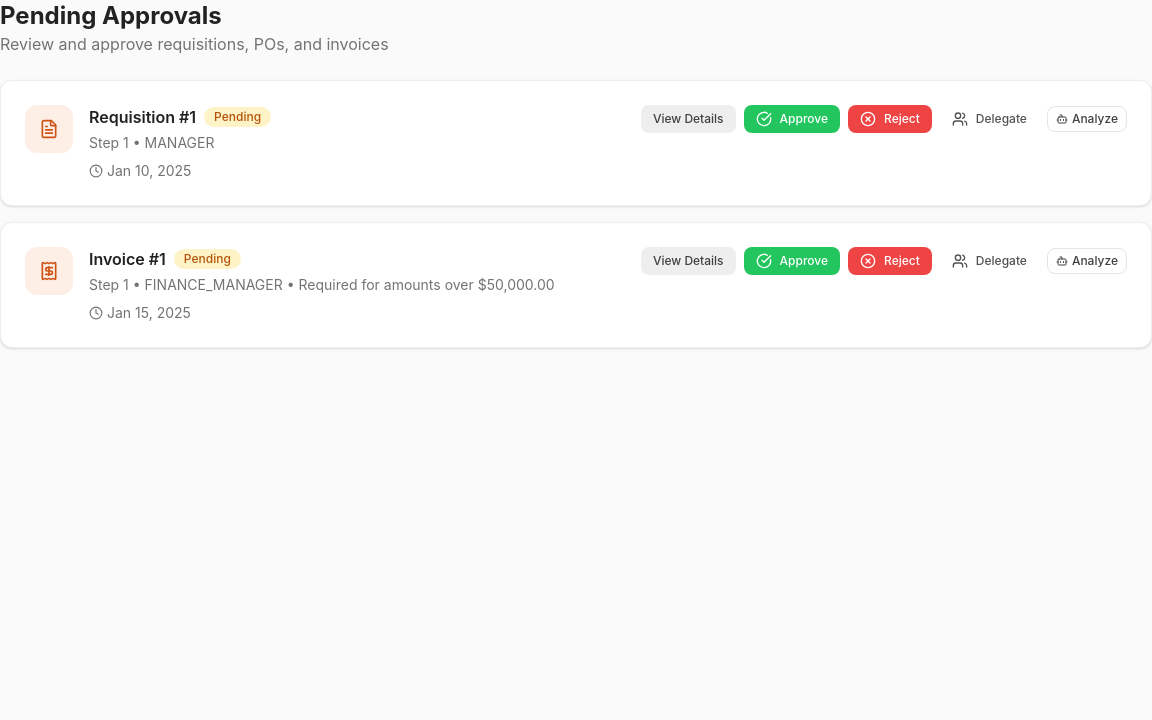
it: ApprovalsView › opens approve modal when approve button is clicked
The width and height of the screenshot is (1152, 720).
Click the 1st button "Approve": click(792, 119) [744,105,840,133]
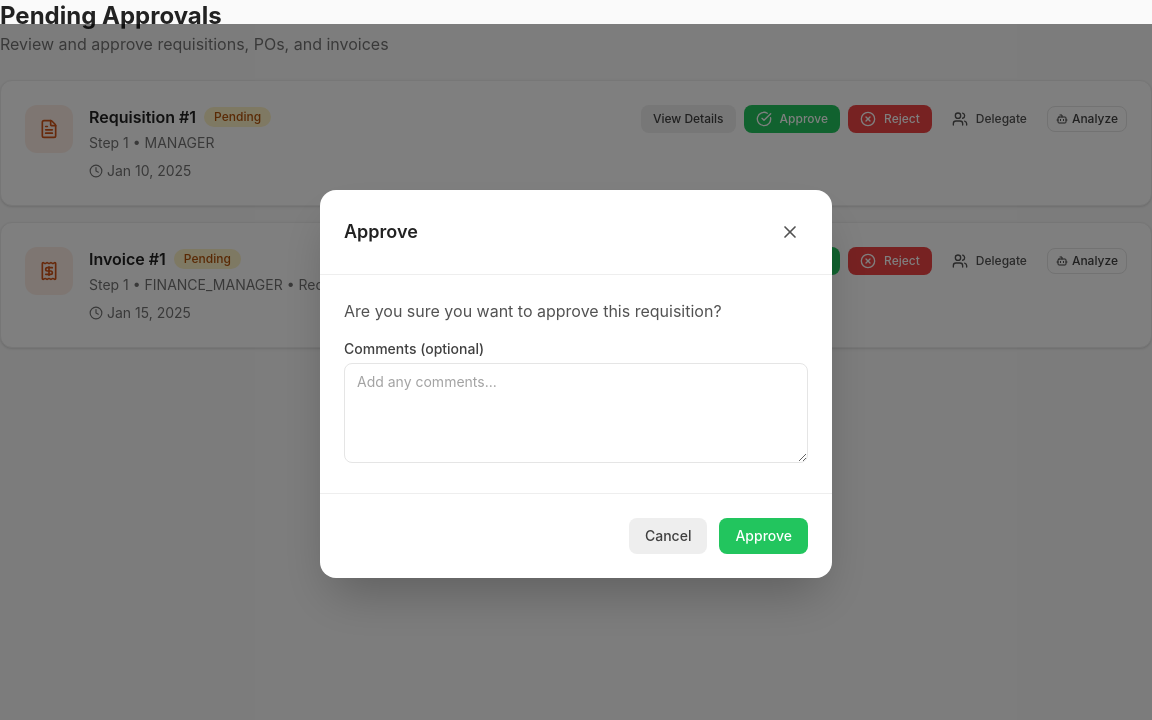
Now the text "Are you sure you want to approve this requisition?" is shown, box [344,301,722,321]
